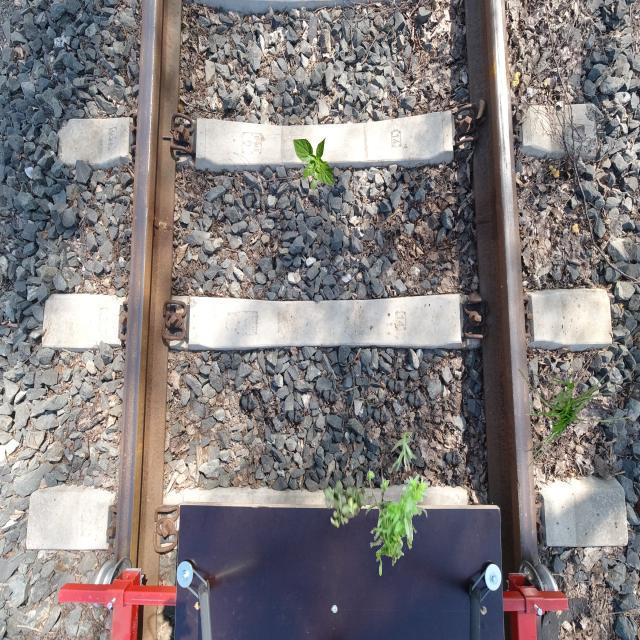Plant: (516, 346, 634, 468), (366, 468, 431, 576), (293, 137, 334, 190), (323, 479, 366, 529), (391, 431, 418, 473)
